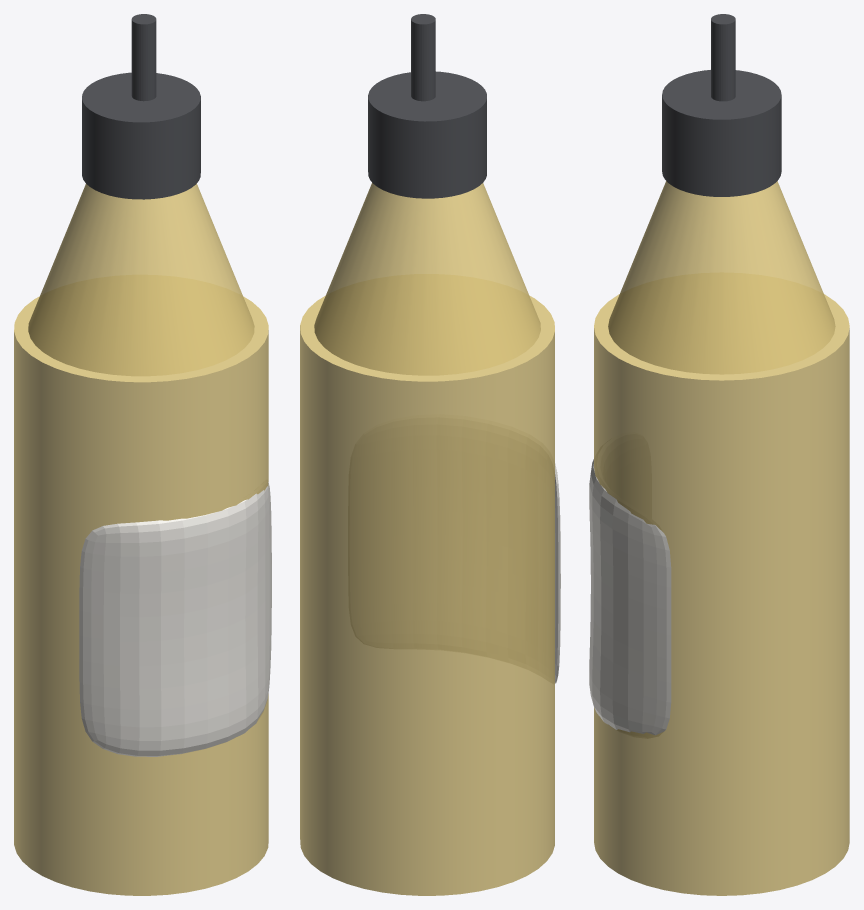
File: soraine_bottle_repaired.glb
3 renders of one model, left to right at view 1: azimuth 30°, elevation 25°; view 2: azimuth 150°, elevation 25°; view 3: azimuth 270°, elevation 25°, orthographic.
Visible parts, largest first — view 1: OilBody, Oil_Mesh_63, Oil_Mesh_61, OilSpout; view 2: OilBody, Oil_Mesh_61, OilSpout, Oil_Mesh_63; view 3: OilBody, Oil_Mesh_61, Oil_Mesh_63, OilSpout.
Part boxes in pixels (box(x1,y1,x2,y2)): OilBody: box(14, 296, 268, 895); Oil_Mesh_63: box(79, 482, 271, 756); Oil_Mesh_61: box(28, 183, 254, 376); OilSpout: box(82, 14, 200, 199); OilBody: box(300, 295, 554, 895); Oil_Mesh_61: box(314, 182, 540, 375); OilSpout: box(368, 14, 486, 198); Oil_Mesh_63: box(555, 463, 560, 683); OilBody: box(594, 294, 849, 895); Oil_Mesh_61: box(608, 181, 835, 374); Oil_Mesh_63: box(589, 459, 671, 735); OilSpout: box(662, 14, 781, 196).
Size of the model in its own units: 0.09 by 0.3199 by 0.0916.
